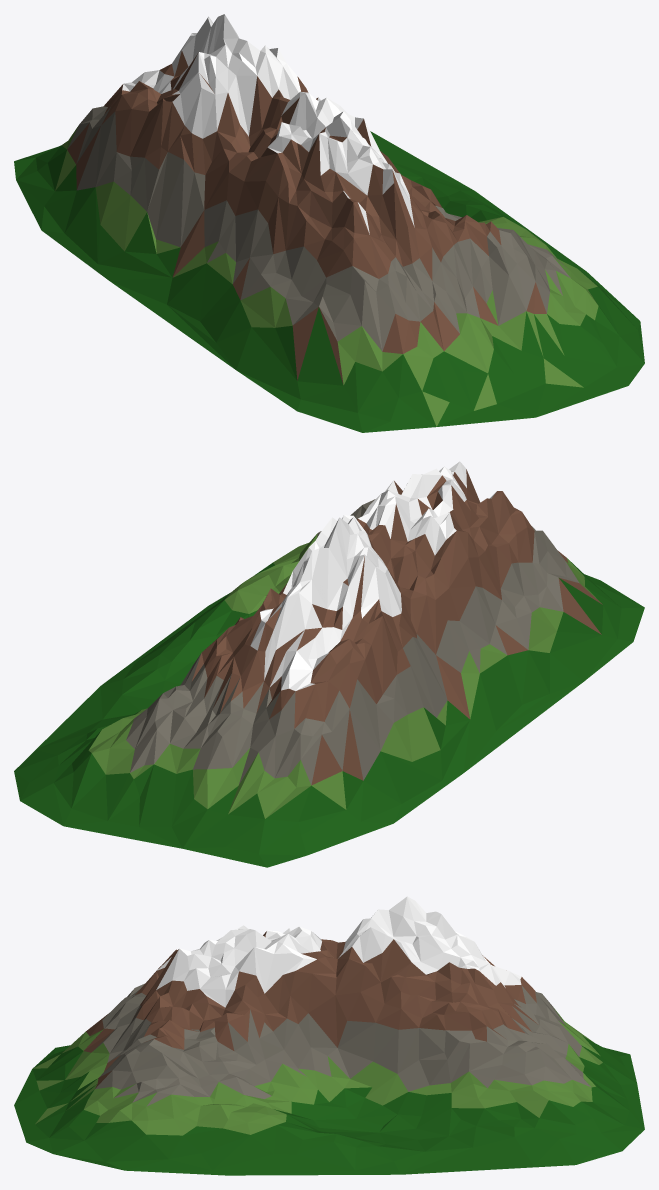
The model's file is Mountain.fbx.
3 views of the same model, one above another, from view 1: azimuth 30°, elevation 25°; view 2: azimuth 150°, elevation 25°; view 3: azimuth 270°, elevation 25° (orthographic). The views are drawn at different scales.
Visible parts, largest first — view 1: Landscape; view 2: Landscape; view 3: Landscape.
Part boxes in pixels (x1,y1,x2,y2): Landscape: (14,14,644,432); Landscape: (14,461,644,867); Landscape: (14,896,644,1175).
Size of the model in its own units: 105 by 63.89 by 197.
